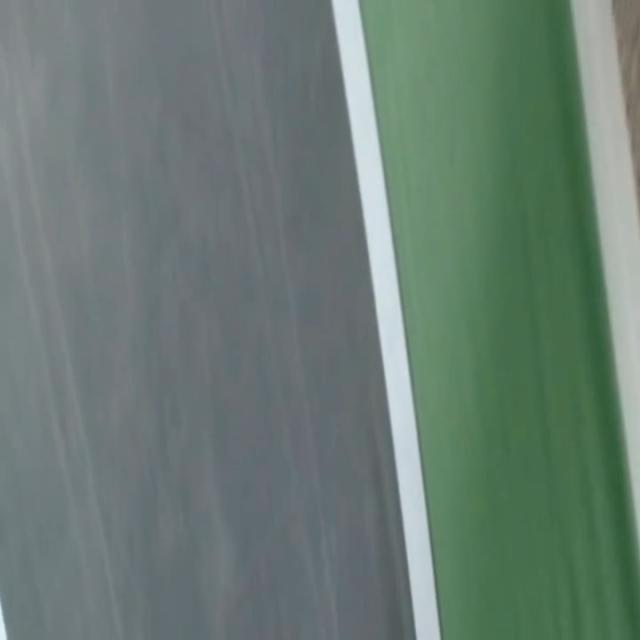center: (0, 600, 6, 639)
right: (332, 0, 440, 639)
